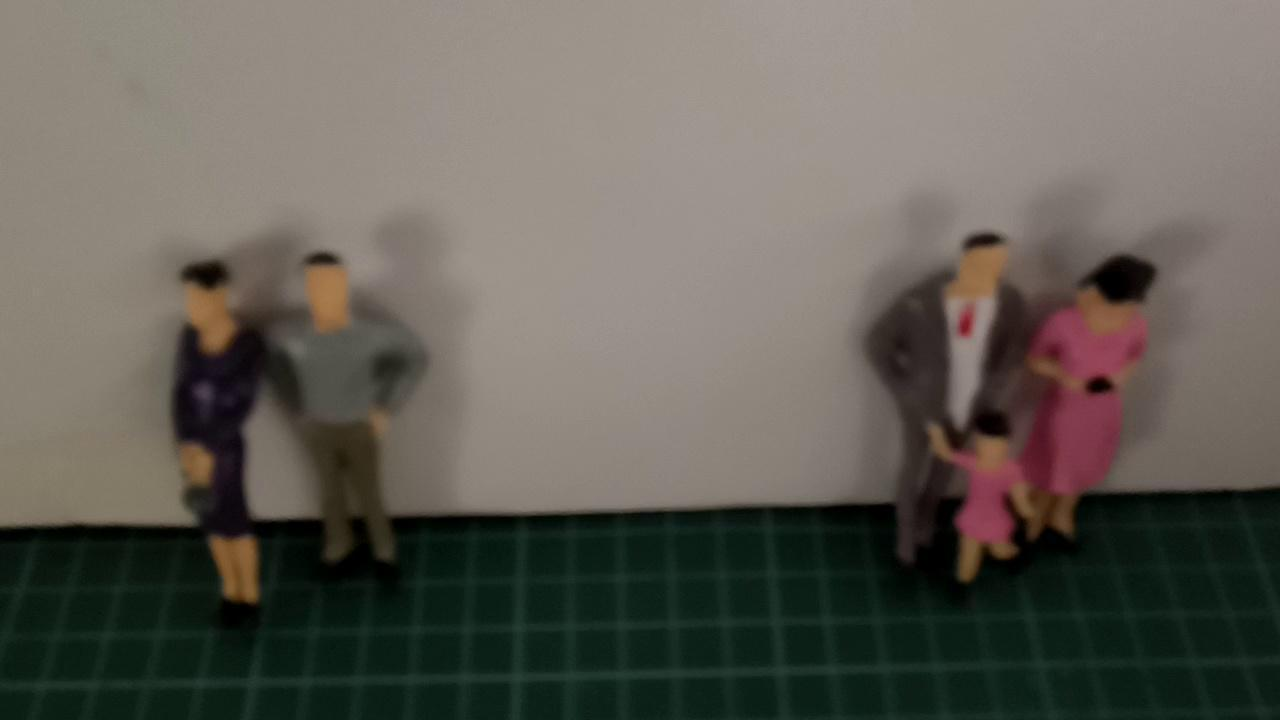human: (863, 233, 1035, 581), (262, 252, 432, 579), (155, 258, 276, 632), (1025, 255, 1158, 564), (928, 391, 1034, 594)
